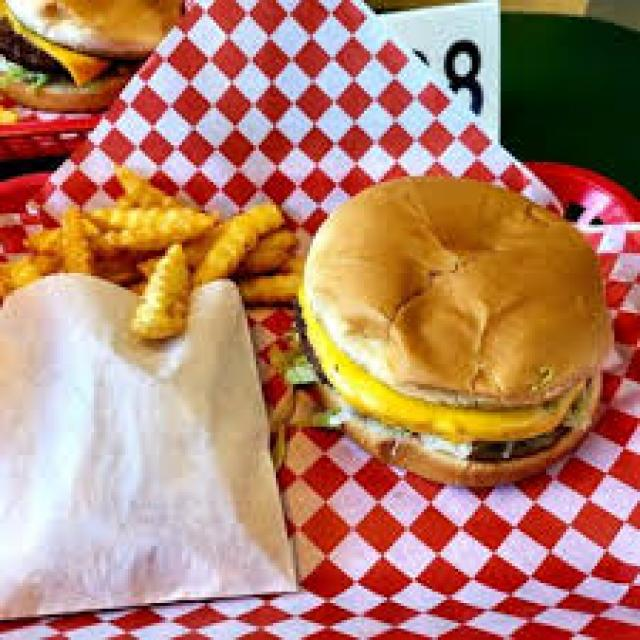Burger: (293, 165, 612, 486), (2, 0, 155, 136)
French Fries: (1, 151, 308, 375)
